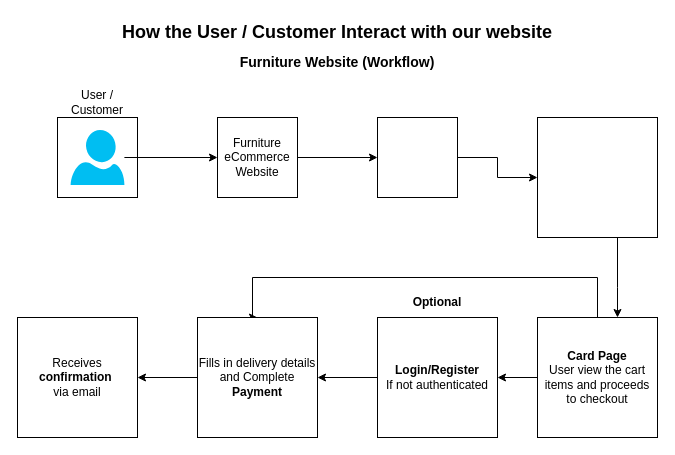
Image size: 675x455. Some labels were removed from this diagram. Each missing label, with the centre of its shape:
"Browses Furniture Products by category" goes at (417,157).
"Go to Product Detail Page where user select the product and add to cart" goes at (597,177).
